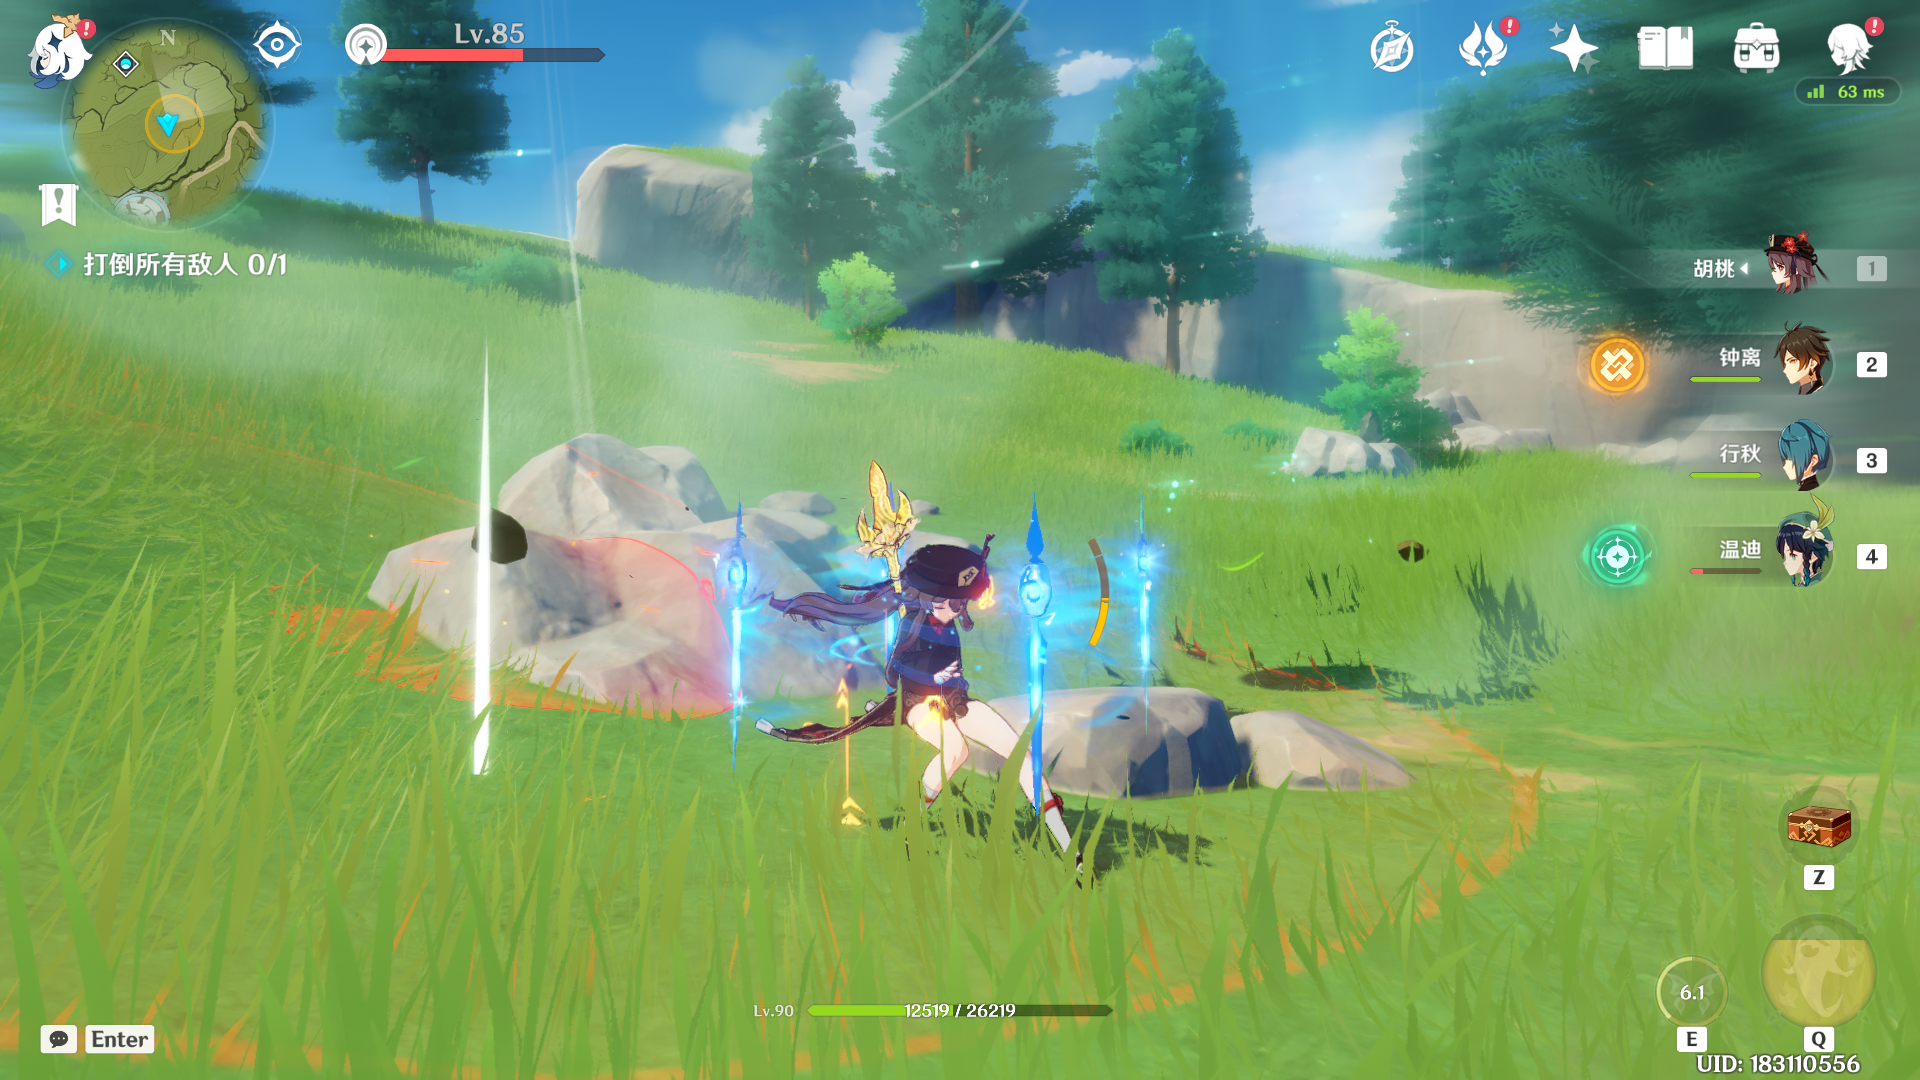character: (752, 469, 1125, 903)
